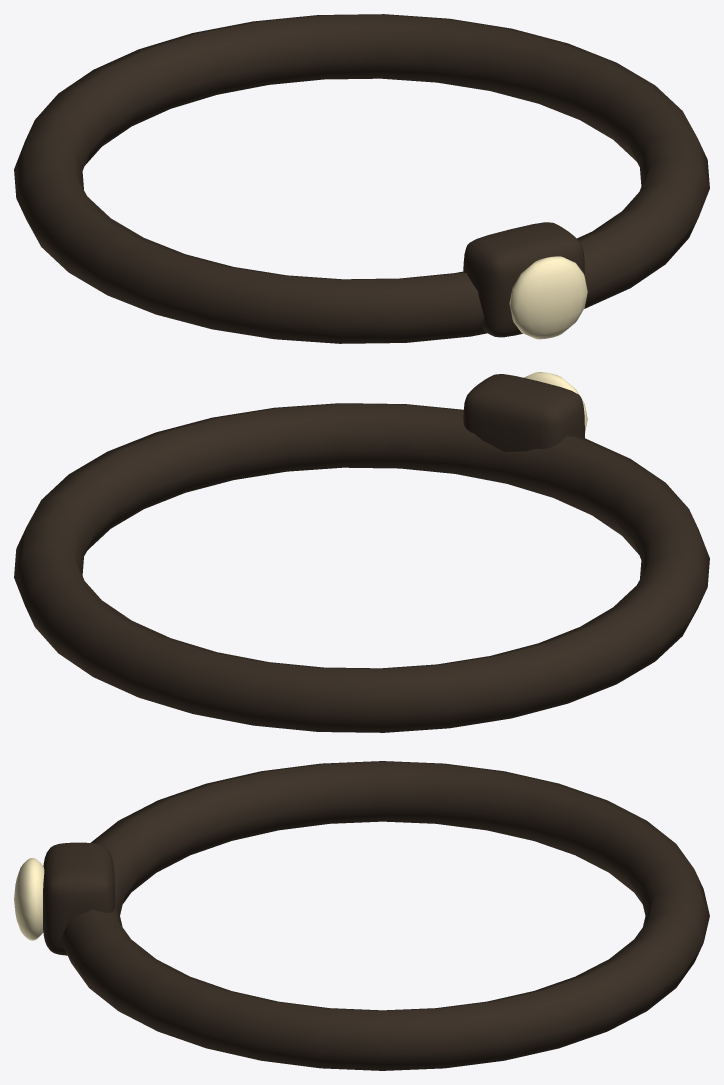
Rendered from hat_lamp.glb.
3 renders of one model, top to bottom at view 1: azimuth 30°, elevation 25°; view 2: azimuth 150°, elevation 25°; view 3: azimuth 270°, elevation 25°, orthographic. The views are drawn at different scales.
Parts seen in each view (by area): view 1: band, lamp_box, lamp_glass; view 2: band, lamp_box; view 3: band, lamp_box, lamp_glass.
Part boxes in pixels (x1,y1,x2,y2): band: (14,14,709,343); lamp_box: (463,222,584,337); lamp_glass: (509,256,587,339); band: (14,403,709,732); lamp_box: (463,374,584,451); band: (60,761,709,1070); lamp_box: (43,842,114,955); lamp_glass: (14,858,44,940).
Size of the model in its own units: 0.71 by 0.1047 by 0.755.
